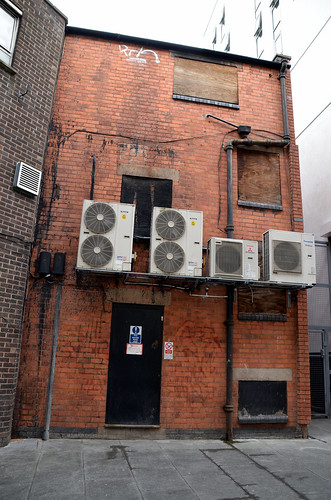building: (1, 25, 320, 447)
door: (103, 293, 162, 435)
window: (167, 45, 243, 109), (229, 142, 290, 214)
